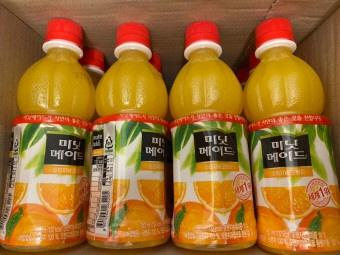minutemaid_org_orange: (0, 13, 103, 254), (252, 18, 334, 254), (89, 21, 173, 251), (175, 17, 256, 253)
